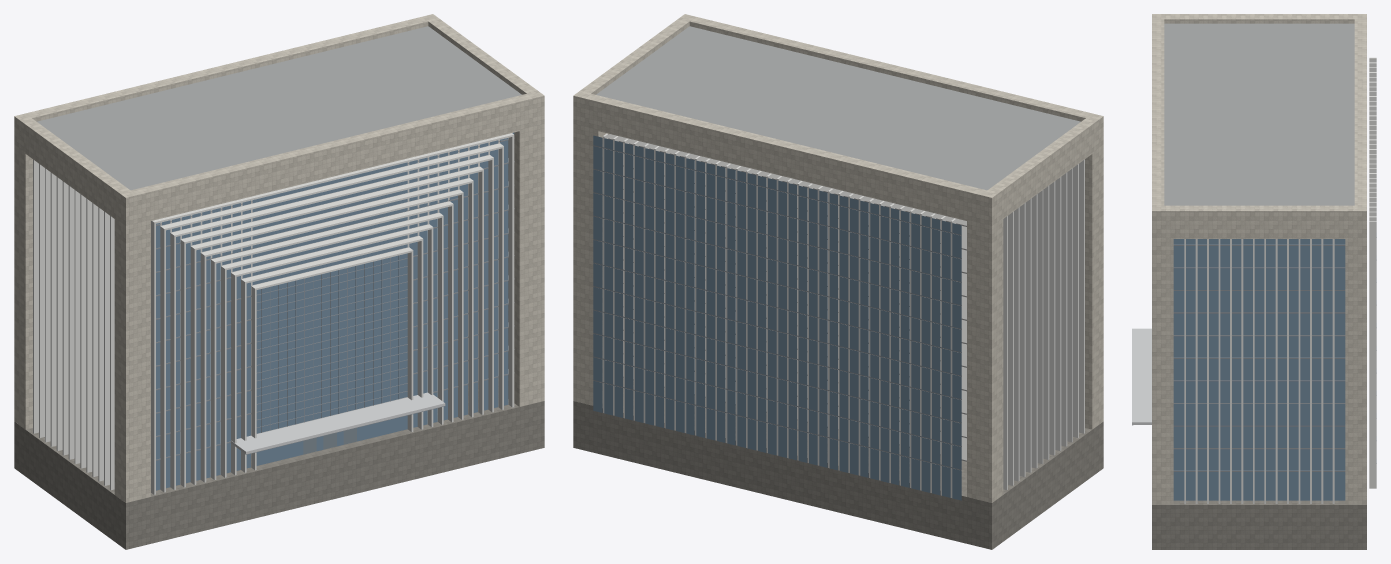
3 views of the same model, side by side, from view 1: azimuth 30°, elevation 25°; view 2: azimuth 150°, elevation 25°; view 3: azimuth 270°, elevation 25° (orthographic). The views are drawn at different scales.
Parts seen in each view (by area): view 1: gachonHall__fin, gachonHall__glass, gachonHall__stone, gachonHall__roof, gachonHall__darkstone, gachonHall__mullion, gachonHall__slab, gachonHall__metal; view 2: gachonHall__glass, gachonHall__stone, gachonHall__fin, gachonHall__roof, gachonHall__darkstone, gachonHall__slab, gachonHall__mullion; view 3: gachonHall__glass, gachonHall__roof, gachonHall__stone, gachonHall__fin, gachonHall__darkstone, gachonHall__mullion, gachonHall__metal.
Boxes of the visible parts, x1=… form: gachonHall__fin: x1=33, y1=133, x2=514, y2=494; gachonHall__glass: x1=156, y1=132, x2=514, y2=490; gachonHall__stone: x1=14, y1=14, x2=544, y2=502; gachonHall__roof: x1=37, y1=26, x2=521, y2=190; gachonHall__darkstone: x1=14, y1=377, x2=544, y2=549; gachonHall__mullion: x1=156, y1=138, x2=514, y2=460; gachonHall__slab: x1=157, y1=138, x2=508, y2=453; gachonHall__metal: x1=230, y1=392, x2=445, y2=454; gachonHall__glass: x1=593, y1=135, x2=961, y2=500; gachonHall__stone: x1=573, y1=14, x2=1103, y2=502; gachonHall__fin: x1=603, y1=133, x2=1084, y2=497; gachonHall__roof: x1=596, y1=26, x2=1080, y2=190; gachonHall__darkstone: x1=573, y1=378, x2=1103, y2=549; gachonHall__slab: x1=608, y1=134, x2=966, y2=461; gachonHall__mullion: x1=593, y1=145, x2=961, y2=470; gachonHall__glass: x1=1173, y1=239, x2=1345, y2=500; gachonHall__roof: x1=1164, y1=23, x2=1354, y2=205; gachonHall__stone: x1=1152, y1=14, x2=1366, y2=504; gachonHall__fin: x1=1184, y1=57, x2=1376, y2=503; gachonHall__darkstone: x1=1152, y1=500, x2=1366, y2=549; gachonHall__mullion: x1=1132, y1=233, x2=1376, y2=471; gachonHall__metal: x1=1132, y1=328, x2=1151, y2=424.
Bounding box in the file's own units: 74.7 × 60 × 39.28.
10 materials, 2 textured.
